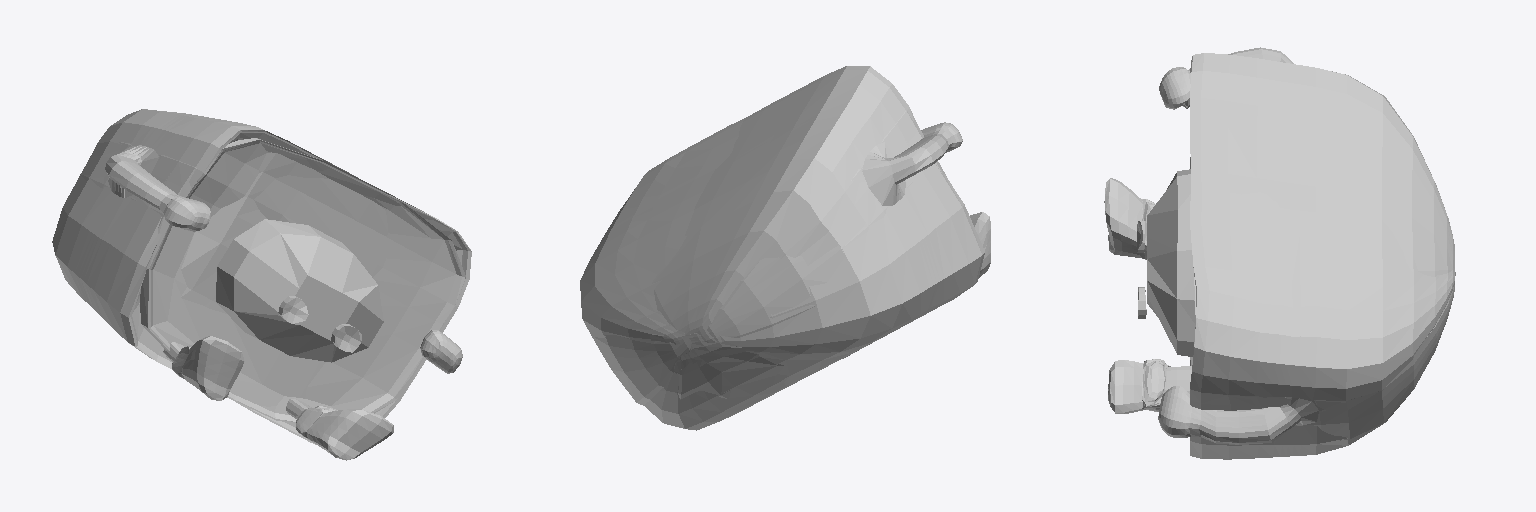
Rendered from Pal_000014.obj.
3 renders of one model, left to right at view 1: azimuth 30°, elevation 25°; view 2: azimuth 150°, elevation 25°; view 3: azimuth 270°, elevation 25°, orthographic.
Visible parts, largest first — view 1: Cuerpo_de_aguacate_3.001_Cube.002, Hueso_Cubo.003, Ojos_Cubo.002; view 2: Cuerpo_de_aguacate_3.001_Cube.002; view 3: Cuerpo_de_aguacate_3.001_Cube.002, Hueso_Cubo.003.
Boxes of the visible parts, x1,y1,x2,y2 form: Cuerpo_de_aguacate_3.001_Cube.002: [52, 109, 471, 460]; Hueso_Cubo.003: [216, 219, 383, 362]; Ojos_Cubo.002: [278, 296, 361, 352]; Cuerpo_de_aguacate_3.001_Cube.002: [580, 66, 990, 430]; Cuerpo_de_aguacate_3.001_Cube.002: [1104, 47, 1455, 459]; Hueso_Cubo.003: [1147, 169, 1195, 356].
Bounding box in the file's own units: 1.16 × 1.1 × 1.01.